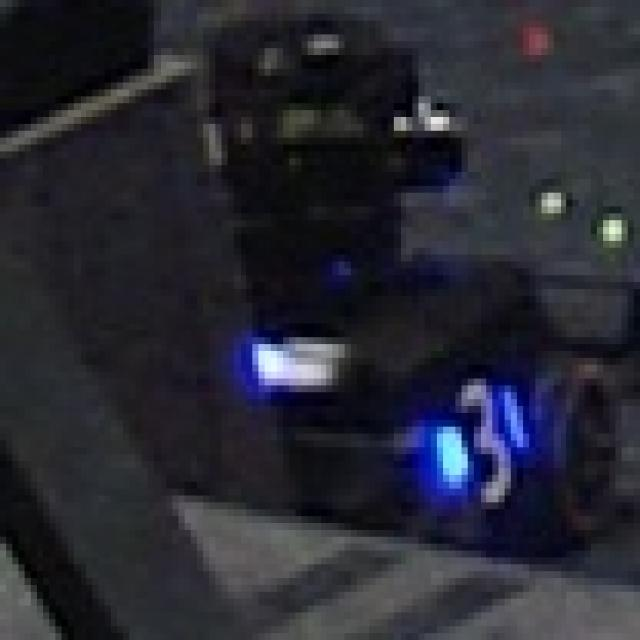B3: (425, 372, 529, 502)
